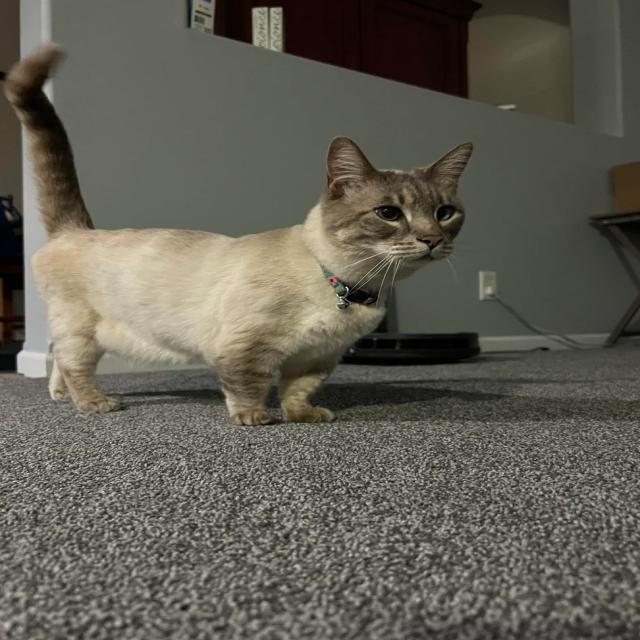Munchkin: (1, 41, 481, 430)
